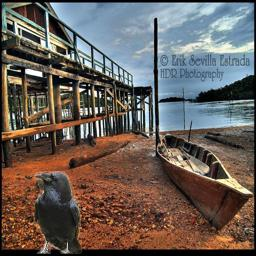Crow: (33, 171, 82, 254)
